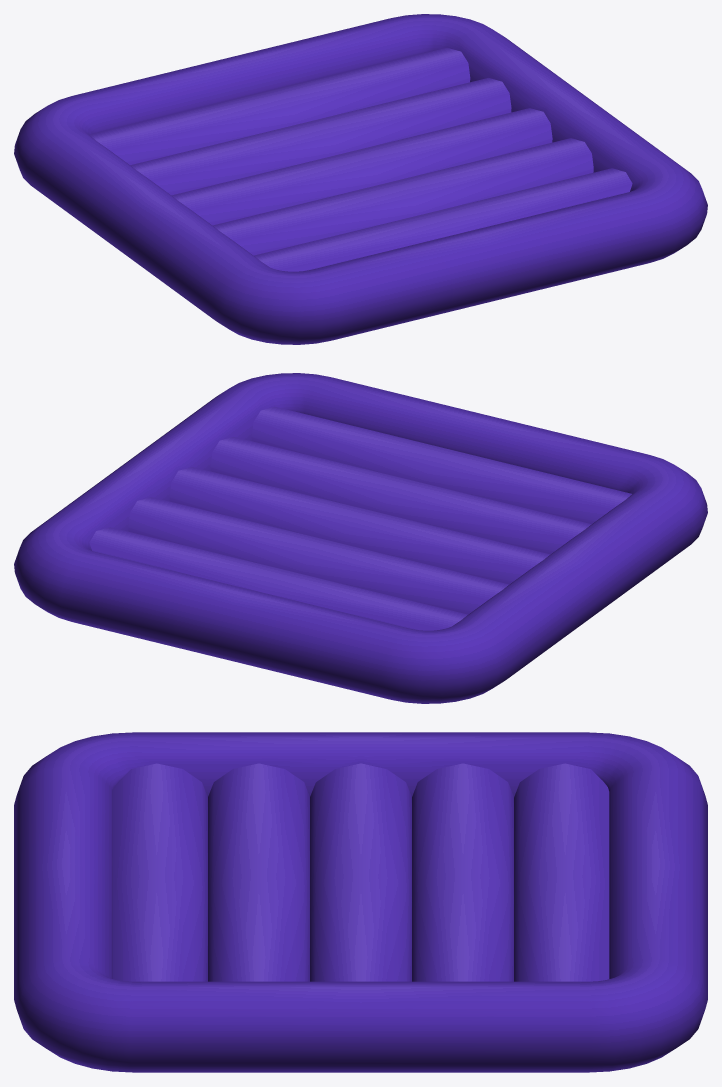
File: tube_cube_blue.fbx
3 renders of one model, top to bottom at view 1: azimuth 30°, elevation 25°; view 2: azimuth 150°, elevation 25°; view 3: azimuth 270°, elevation 25°, orthographic. The views are drawn at different scales.
Visible parts, largest first — view 1: tube_cube_blue; view 2: tube_cube_blue; view 3: tube_cube_blue.
Boxes of the visible parts, x1,y1,x2,y2 form: tube_cube_blue: [14, 14, 707, 344]; tube_cube_blue: [14, 373, 707, 703]; tube_cube_blue: [14, 732, 707, 1072].
Size of the model in its own units: 80 by 10.09 by 80.
